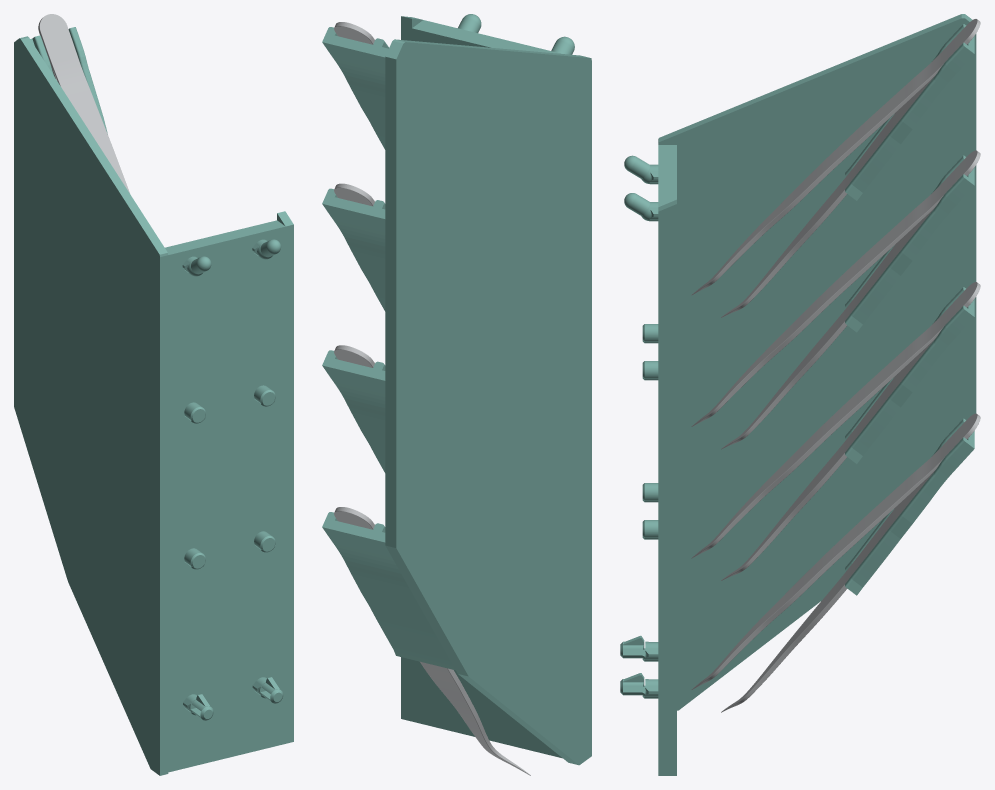
Rendered from part-solder-modules-tweezers__v10__compact-right-cheek__fit-9328ccc5d4__loaded.glb.
3 views of the same model, side by side, from view 1: azimuth 30°, elevation 25°; view 2: azimuth 150°, elevation 25°; view 3: azimuth 270°, elevation 25° (orthographic). The views are drawn at different scales.
Parts seen in each view (by area): view 1: holder, tool-1; view 2: holder, tool-4, tool-2, tool-3, tool-1; view 3: holder, tool-2, tool-3, tool-4, tool-1.
Boxes of the visible parts, x1,y1,x2,y2 form: holder: (14,27,293,775); tool-1: (38,14,129,193); holder: (322,14,591,765); tool-4: (334,507,530,775); tool-2: (334,183,374,206); tool-3: (334,345,374,367); tool-1: (334,22,374,44); holder: (620,14,976,775); tool-2: (691,150,980,449); tool-3: (691,282,980,580); tool-4: (691,413,980,712); tool-1: (691,19,980,317).
Bounding box in the file's own units: 0.0488 × 0.2249 × 0.1042.
